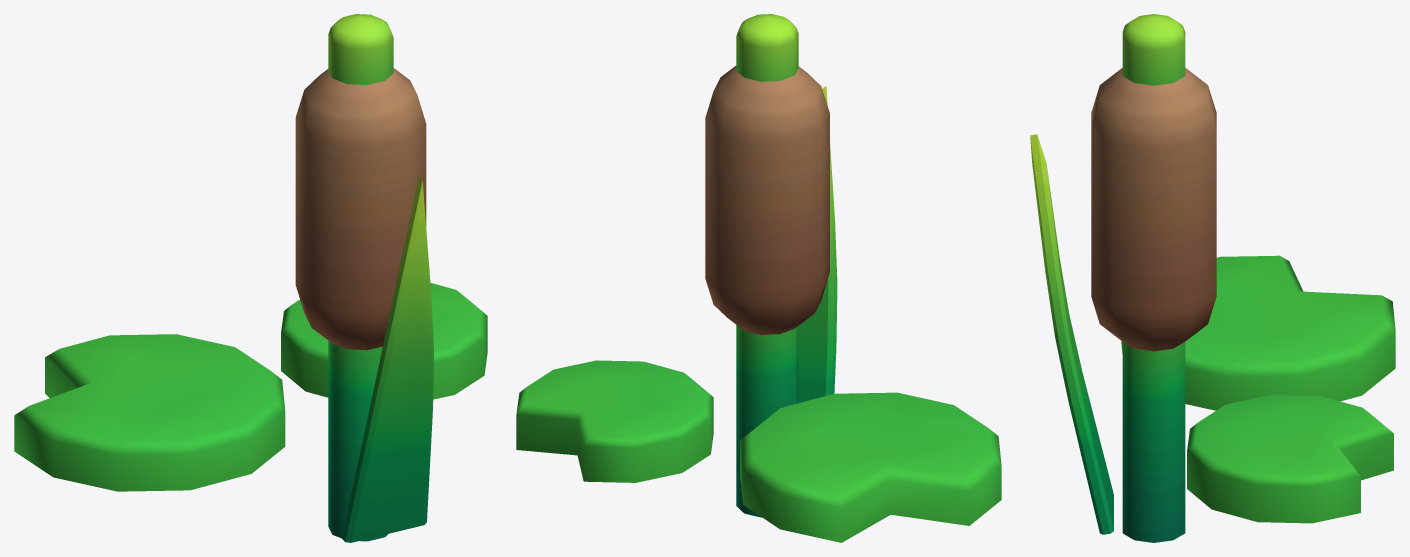
Rendered from Cane.fbx.
3 renders of one model, left to right at view 1: azimuth 30°, elevation 25°; view 2: azimuth 150°, elevation 25°; view 3: azimuth 270°, elevation 25°, orthographic. The views are drawn at different scales.
Visible parts, largest first — view 1: Water_decor; view 2: Water_decor; view 3: Water_decor.
Boxes of the visible parts, box(x1,y1,x2,y2) form: Water_decor: box(14, 14, 487, 542); Water_decor: box(516, 14, 1001, 542); Water_decor: box(1030, 14, 1395, 542).
Bounding box in the file's own units: 8.09 × 8.57 × 5.56.
Materials: 1 (1 with a texture image).
